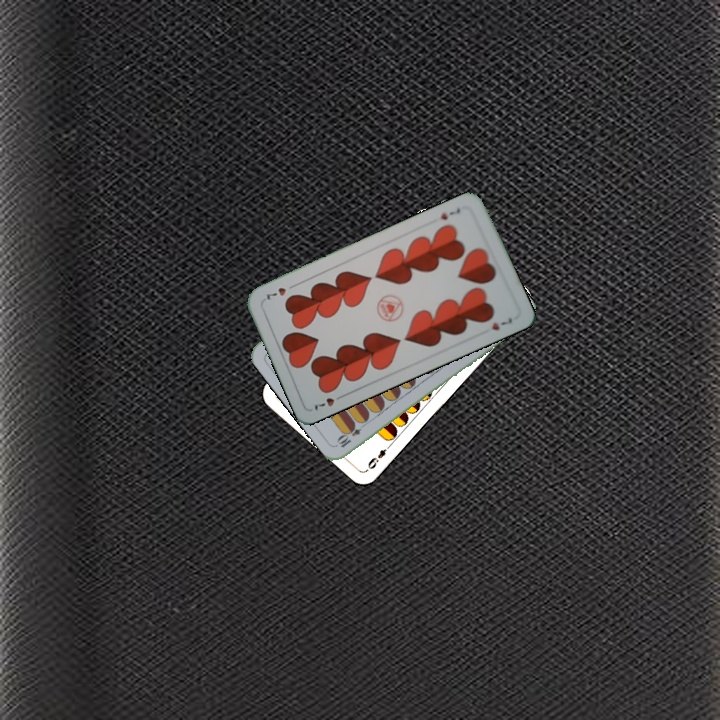E10: (333, 418, 369, 450)
E9: (363, 440, 394, 472)
H7: (310, 390, 347, 414), (437, 204, 463, 223)
